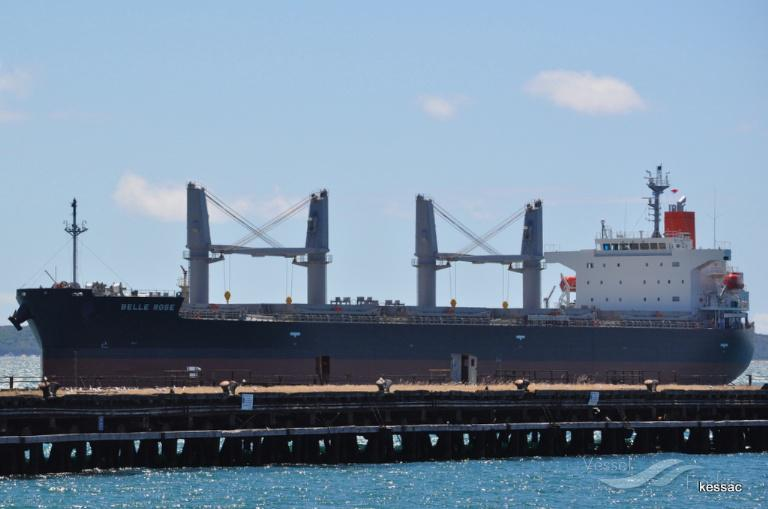OCR: (114, 297, 178, 316)
